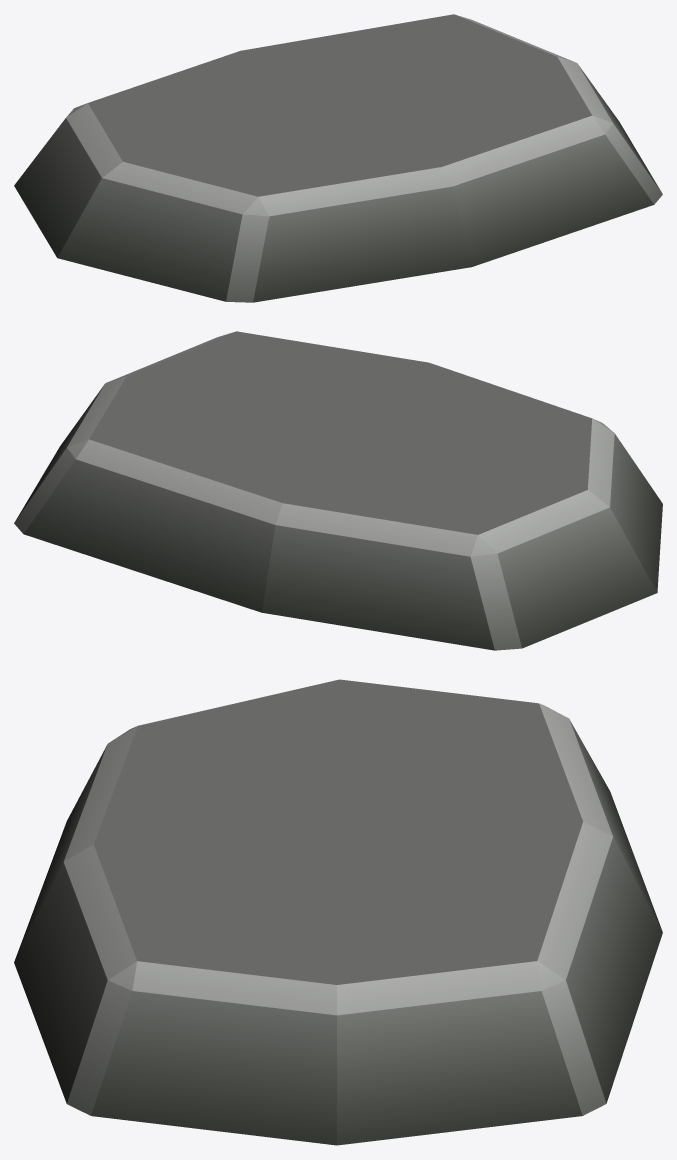
Rendered from Roadstones-1-6.fbx.
3 renders of one model, top to bottom at view 1: azimuth 30°, elevation 25°; view 2: azimuth 150°, elevation 25°; view 3: azimuth 270°, elevation 25°, orthographic. The views are drawn at different scales.
Visible parts, largest first — view 1: Roadstones-1-6; view 2: Roadstones-1-6; view 3: Roadstones-1-6.
Boxes of the visible parts, <box> form: Roadstones-1-6: <box>14,14,662,302</box>; Roadstones-1-6: <box>14,331,662,650</box>; Roadstones-1-6: <box>14,679,662,1145</box>.
Bounding box in the file's own units: 131 × 18.02 × 91.
